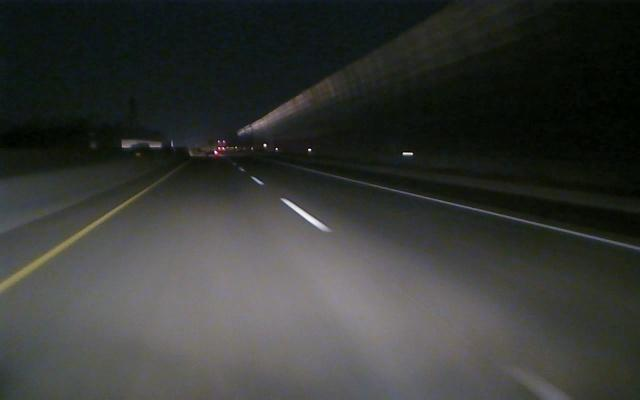lane: (328, 173, 639, 252), (3, 183, 155, 292), (250, 176, 335, 232)
